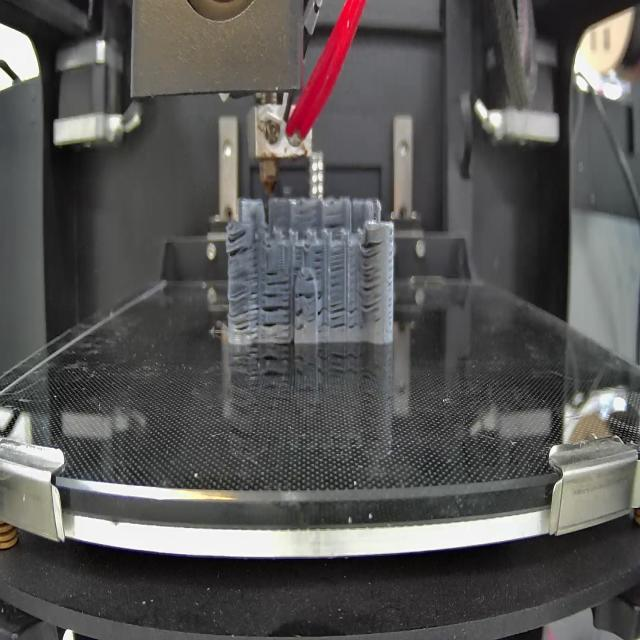cracks: (360, 241, 382, 314), (229, 289, 260, 338), (261, 291, 290, 329), (328, 299, 359, 332), (227, 231, 252, 256), (330, 250, 345, 290), (265, 272, 293, 290), (295, 289, 324, 305), (388, 229, 393, 314), (312, 250, 325, 276), (296, 309, 307, 335), (250, 247, 262, 270), (294, 247, 305, 272), (230, 272, 258, 280), (316, 310, 327, 326), (324, 222, 347, 228)
